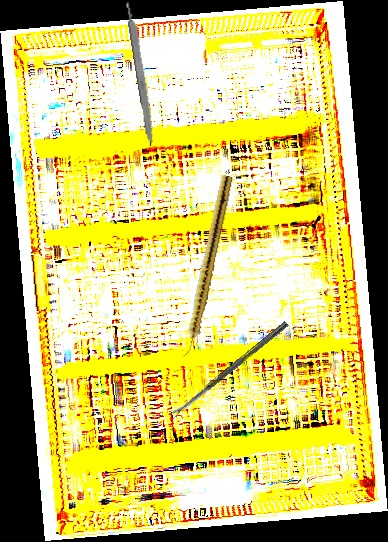Handpiece: (179, 173, 234, 359)
Scalpel Handle: (124, 1, 158, 147)
Surgical Spoon: (169, 320, 289, 419)
